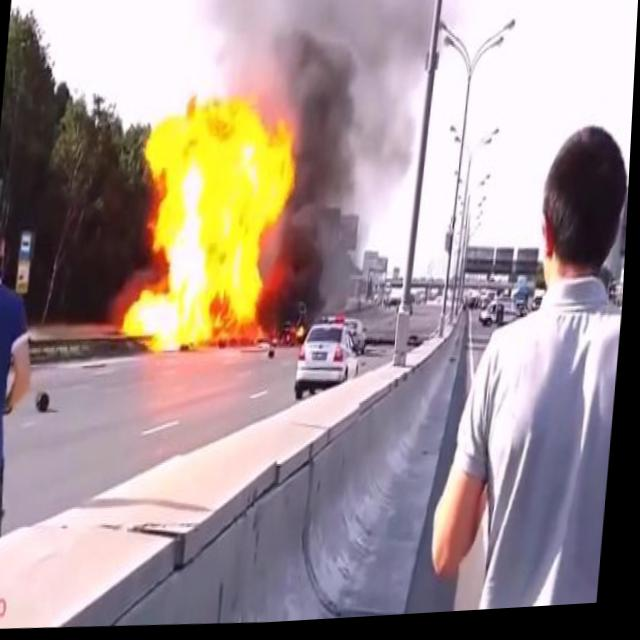fire: (119, 86, 306, 363), (288, 323, 309, 348)
